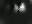person: (21, 3, 27, 17), (14, 5, 19, 16)
